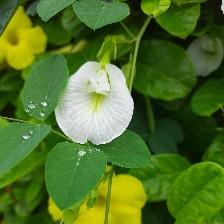shankupushpam: (54, 60, 137, 149)
